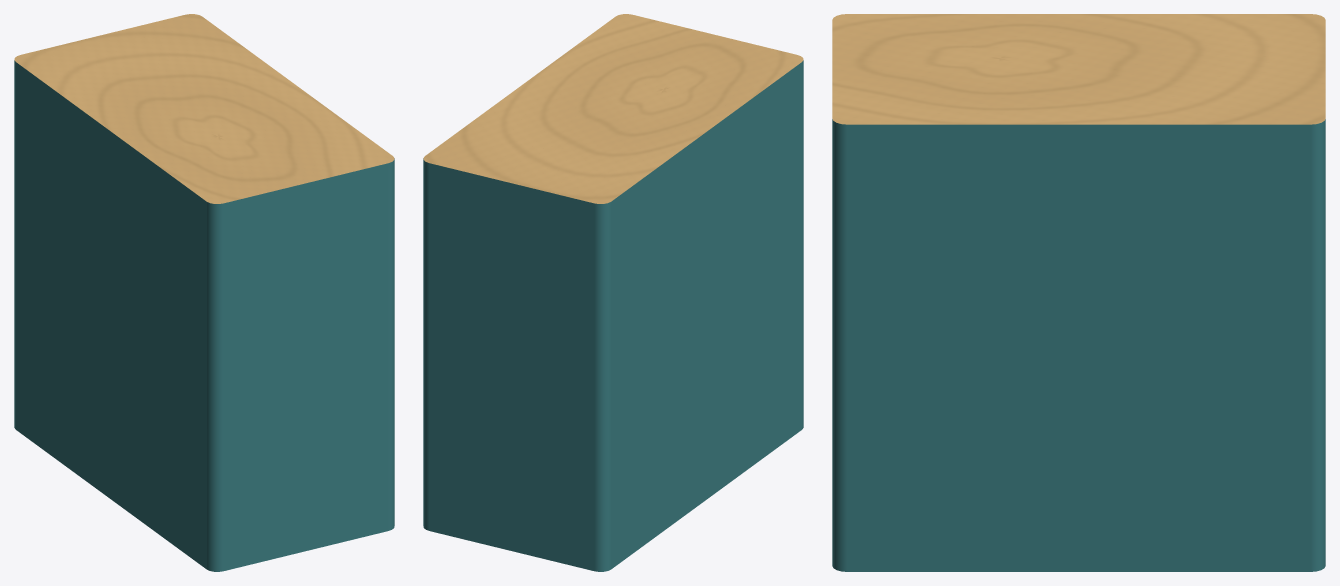
The model's file is play-orange-block-teal.glb.
3 views of the same model, side by side, from view 1: azimuth 30°, elevation 25°; view 2: azimuth 150°, elevation 25°; view 3: azimuth 270°, elevation 25° (orthographic). The views are drawn at different scales.
Visible parts, largest first — view 1: Block_Painted_Body, Block_Paint_Front, Block_Wood_Bottom; view 2: Block_Painted_Body, Block_Paint_Back, Block_Wood_Bottom; view 3: Block_Paint_Left, Block_Wood_Bottom, Block_Paint_Front, Block_Paint_Back.
Part boxes in pixels (<box>): Block_Painted_Body: <box>14,60,213,571</box>; Block_Paint_Front: <box>214,160,394,571</box>; Block_Wood_Bottom: <box>14,14,394,203</box>; Block_Painted_Body: <box>604,60,803,571</box>; Block_Paint_Back: <box>423,160,603,571</box>; Block_Wood_Bottom: <box>423,14,803,203</box>; Block_Paint_Left: <box>836,123,1321,571</box>; Block_Wood_Bottom: <box>832,14,1325,124</box>; Block_Paint_Front: <box>832,119,836,569</box>; Block_Paint_Back: <box>1321,119,1325,569</box>.
Size of the model in its own units: 0.07 by 0.132 by 0.132.
Materials: 2 (1 with a texture image).
